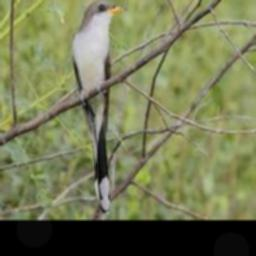Cuckoo: (71, 1, 128, 212)
